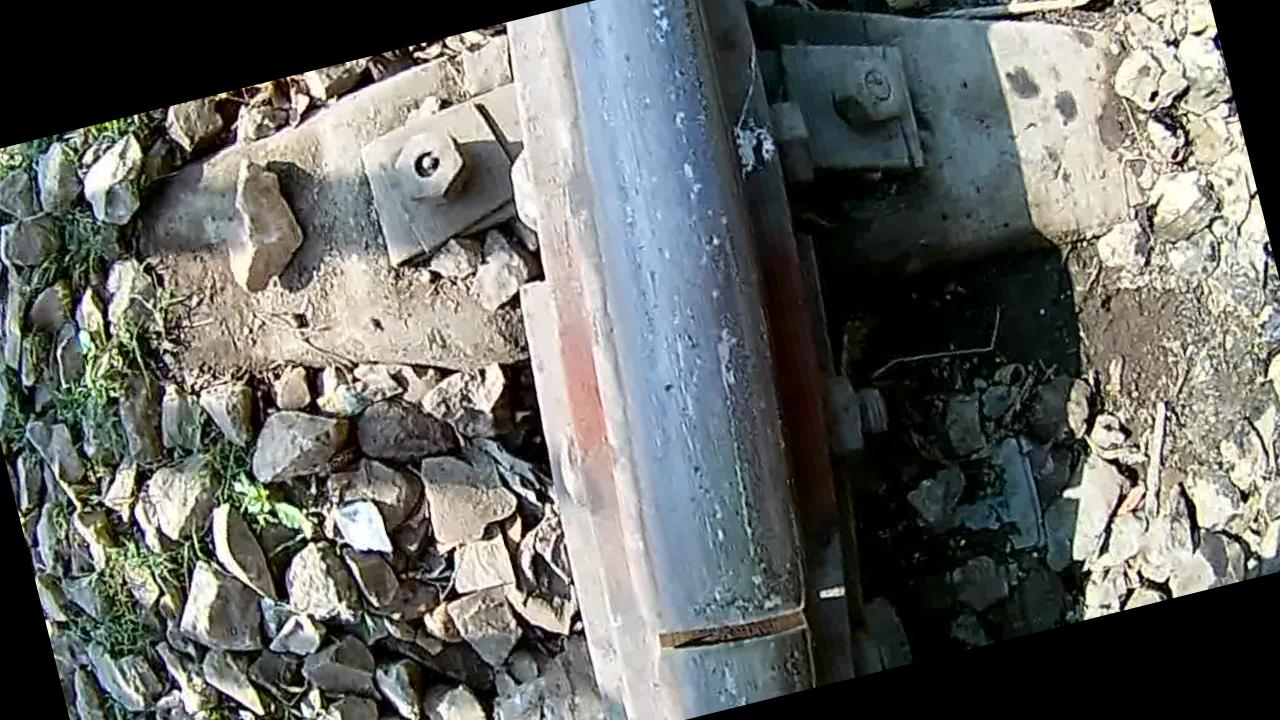clip_missing: (531, 0, 833, 590)
